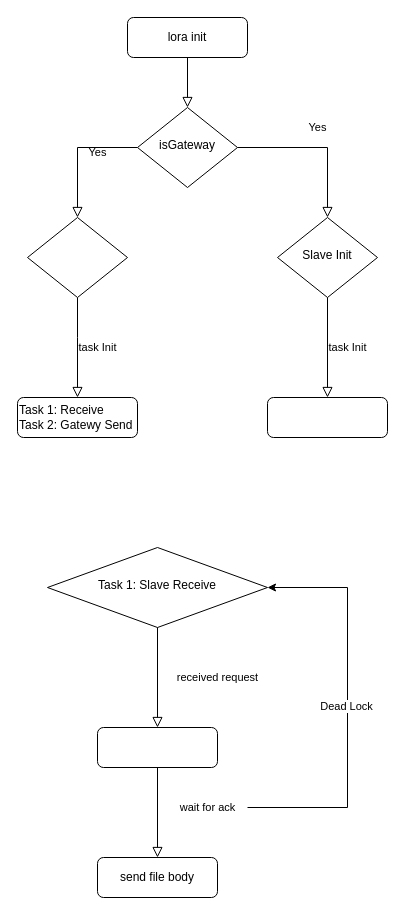
The diagram is 405 pixels wide and 915 high, and some of its shapes have lost their labels. Each missing label, with the centre of its shape:
"Gateway Init" goes at point 77,257.
"send metadata" goes at point 157,747.
"Task 1: Receive Task 2: Auto Pairing" goes at point 327,417.
